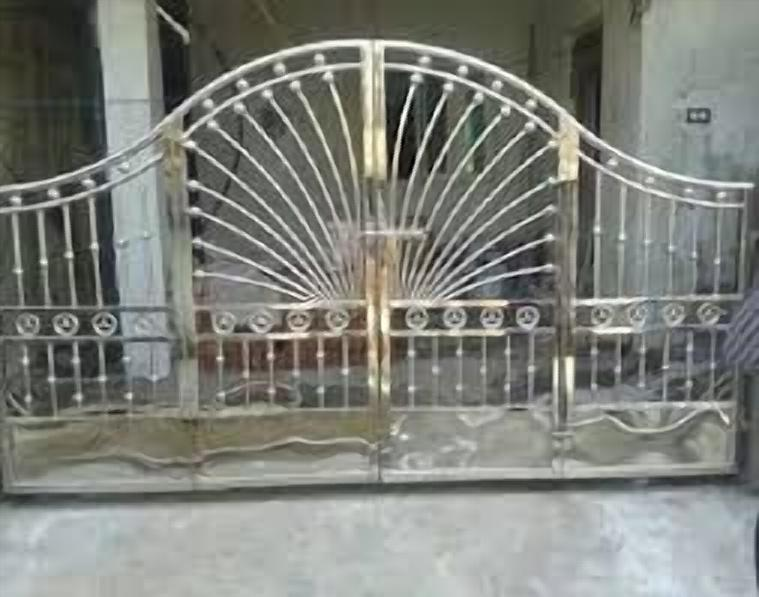Building: (96, 0, 759, 355)
Door: (566, 22, 606, 317)
Gate: (0, 39, 759, 497)
Window-without-grill: (375, 60, 486, 178)
